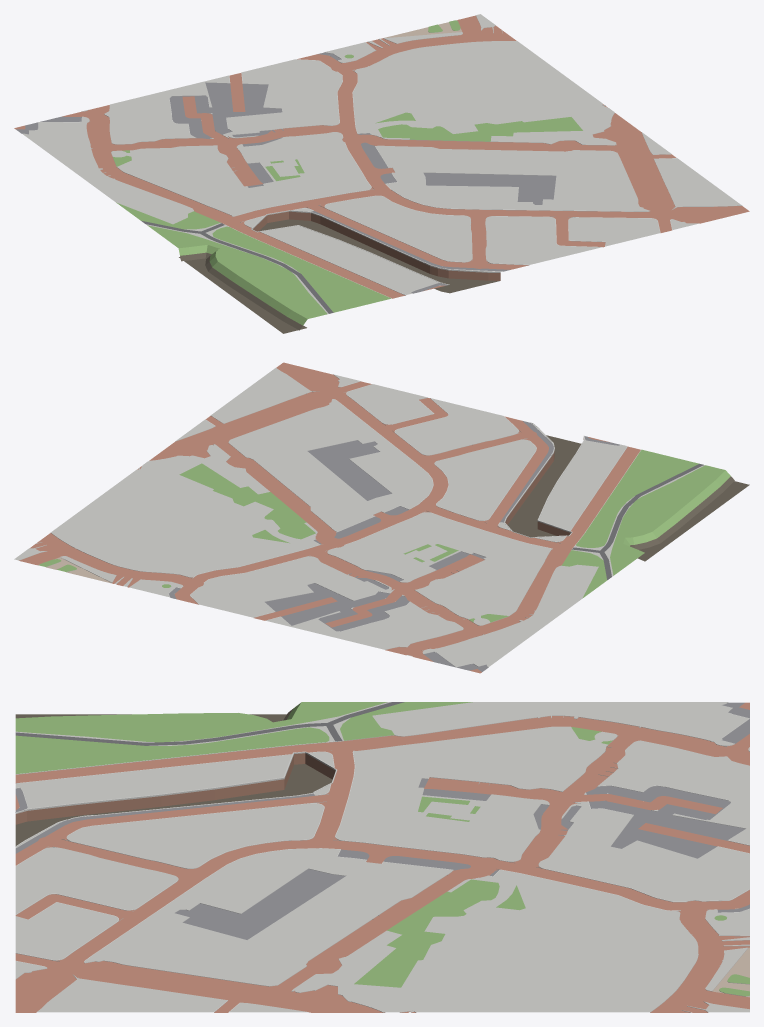
The model's file is ground_7_9.glb.
The picture shows the model from 3 angles, top to bottom: view 1: azimuth 30°, elevation 25°; view 2: azimuth 150°, elevation 25°; view 3: azimuth 270°, elevation 25°; orthographic projection. The views are drawn at different scales.
Parts seen in each view (by area): view 1: ground_7_9; view 2: ground_7_9; view 3: ground_7_9.
Boxes of the visible parts, x1,y1,x2,y2 form: ground_7_9: (14, 14, 749, 333); ground_7_9: (14, 362, 749, 673); ground_7_9: (15, 702, 749, 1012).
Bounding box in the file's own units: 201 × 3.68 × 200.
